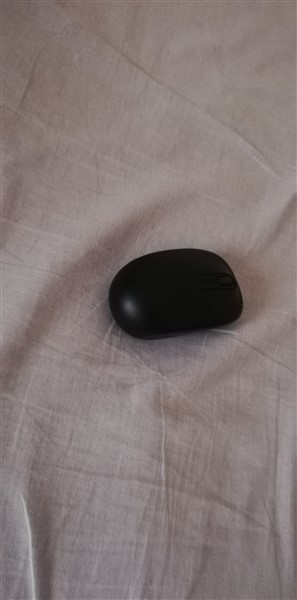mouse: (104, 244, 253, 345)
